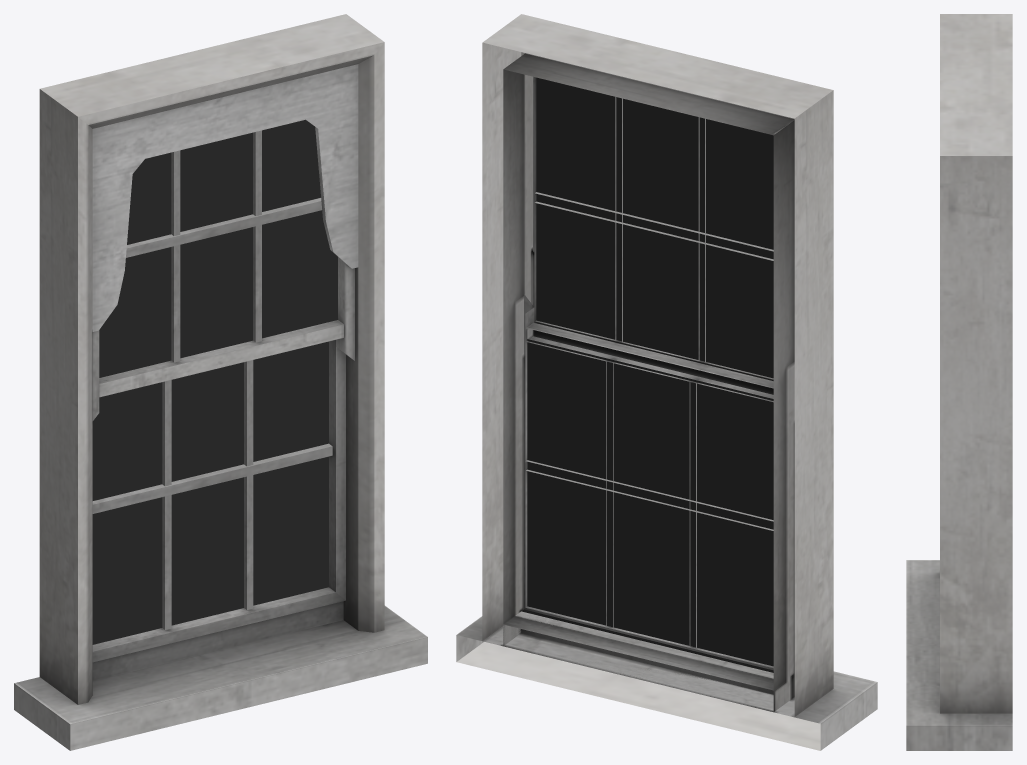
Rendered from Window_04_closed.FBX.
3 renders of one model, left to right at view 1: azimuth 30°, elevation 25°; view 2: azimuth 150°, elevation 25°; view 3: azimuth 270°, elevation 25°, orthographic. The views are drawn at different scales.
Parts seen in each view (by area): view 1: WindowFrame_04_closed; view 2: WindowFrame_04_closed; view 3: WindowFrame_04_closed.
Part boxes in pixels (left/top/right/bottom): WindowFrame_04_closed: left=14, top=14, right=427, bottom=750; WindowFrame_04_closed: left=456, top=14, right=877, bottom=750; WindowFrame_04_closed: left=906, top=14, right=1012, bottom=750.
Size of the model in its own units: 70 by 115 by 19.
